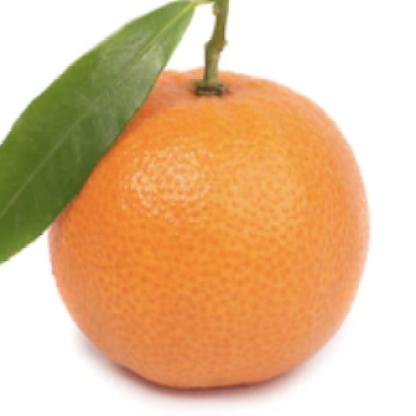fresh: (46, 66, 369, 388)
